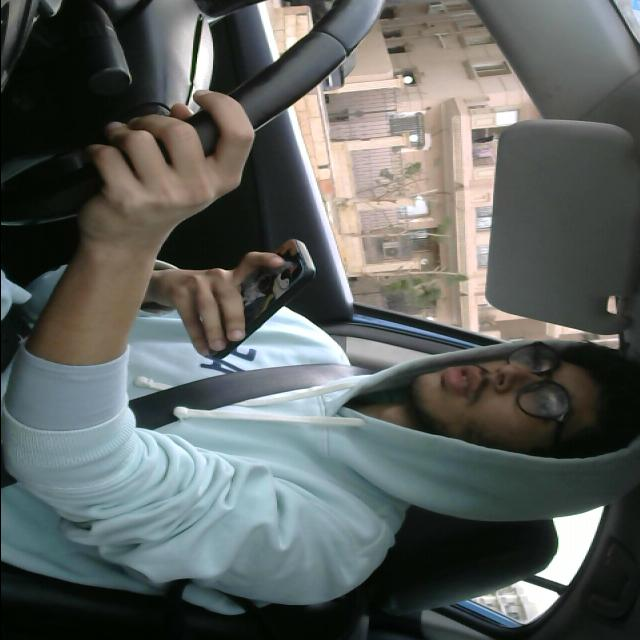mobile use: (202, 235, 316, 363)
